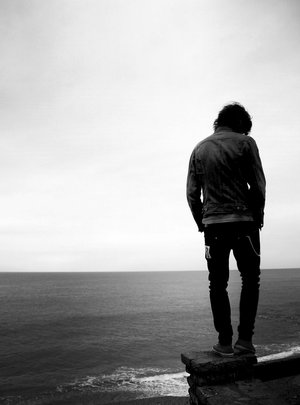Person: (175, 82, 275, 366)
